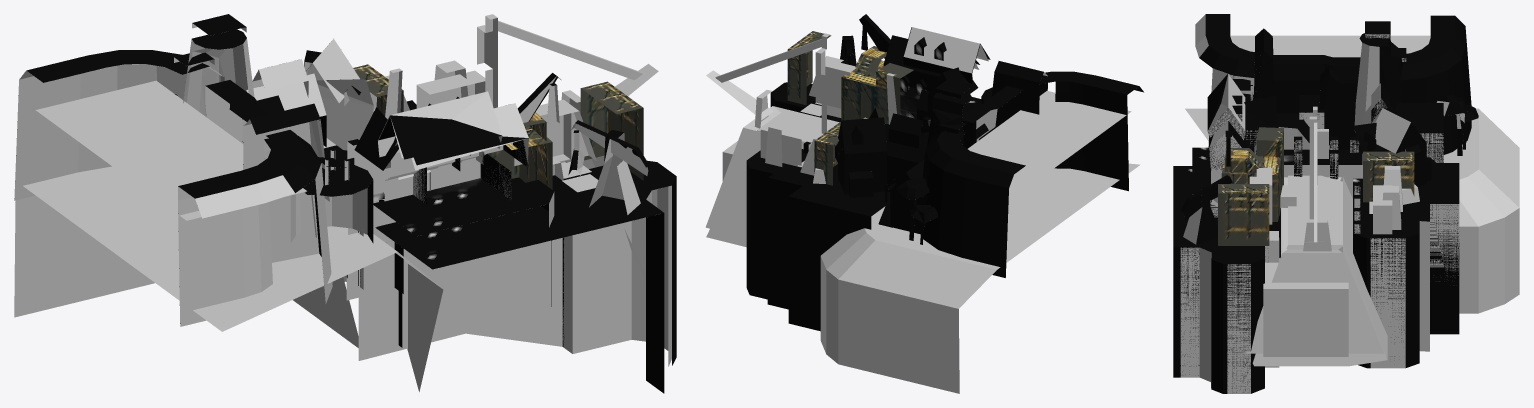
The model's file is T_Shipyard_01.fbx.
3 views of the same model, side by side, from view 1: azimuth 30°, elevation 25°; view 2: azimuth 150°, elevation 25°; view 3: azimuth 270°, elevation 25° (orthographic). The views are drawn at different scales.
Parts seen in each view (by area): view 1: T_Shipyard_01, FX_Territory_NightGlow, T_Ship_build_02, T_BuildForm_02 (2), T_BuildForm_01 (1), T_Ship_build_01, T_BuildForm_02 (4); view 2: FX_Territory_NightGlow, T_Shipyard_01, T_Ship_build_02, T_BuildForm_01 (1), T_Ship_build_01, T_BuildForm_02 (2), T_BuildForm_02 (4); view 3: FX_Territory_NightGlow, T_Shipyard_01, T_Ship_build_02, T_Ship_build_03, T_Ship_build_01, T_BuildForm_02 (2), T_BuildForm_01 (1), T_BuildForm_02 (4).
Part boxes in pixels (x1,y1,x2,y2): T_Shipyard_01: [14, 23, 671, 391]; FX_Territory_NightGlow: [16, 14, 676, 393]; T_Ship_build_02: [319, 14, 658, 287]; T_BuildForm_02 (2): [580, 81, 643, 180]; T_BuildForm_01 (1): [487, 112, 552, 189]; T_Ship_build_01: [373, 60, 604, 199]; T_BuildForm_02 (4): [353, 64, 403, 115]; FX_Territory_NightGlow: [746, 14, 1143, 331]; T_Shipyard_01: [820, 27, 1140, 393]; T_Ship_build_02: [706, 33, 896, 247]; T_BuildForm_01 (1): [841, 46, 913, 124]; T_Ship_build_01: [705, 102, 841, 228]; T_BuildForm_02 (2): [787, 31, 831, 105]; T_BuildForm_02 (4): [814, 122, 840, 185]; FX_Territory_NightGlow: [1173, 14, 1478, 393]; T_Shipyard_01: [1180, 14, 1519, 393]; T_Ship_build_02: [1249, 106, 1402, 366]; T_Ship_build_03: [1263, 208, 1348, 356]; T_Ship_build_01: [1246, 177, 1419, 353]; T_BuildForm_02 (2): [1218, 184, 1269, 245]; T_BuildForm_01 (1): [1221, 127, 1283, 221]; T_BuildForm_02 (4): [1363, 151, 1414, 202].
Size of the model in its own units: 19.94 by 12.06 by 15.54.
